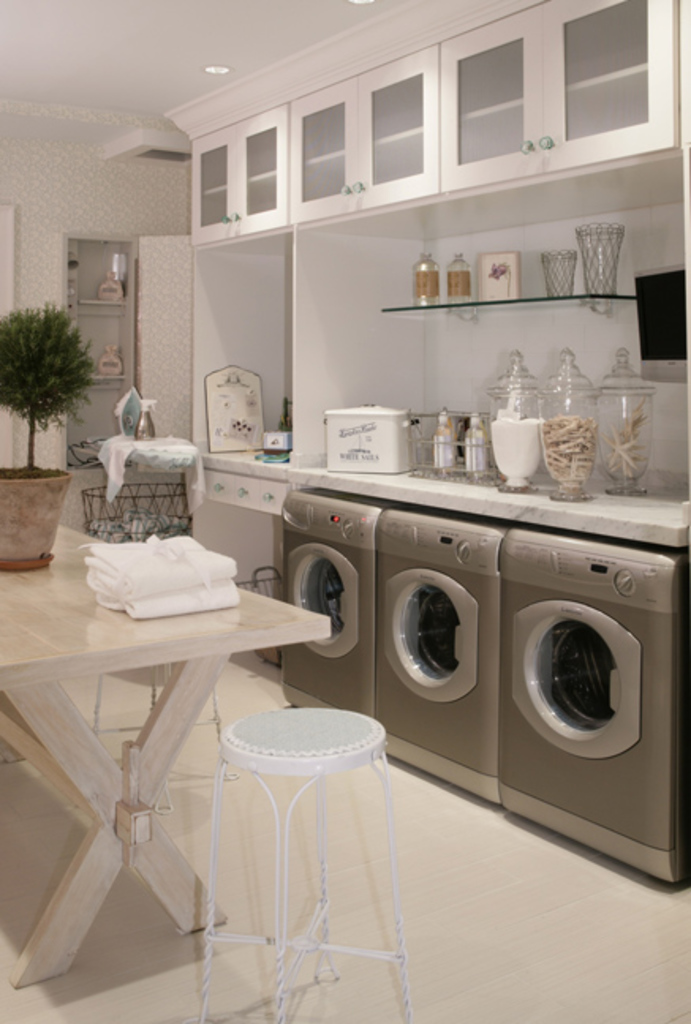cabinet door: (550, 17, 666, 148), (445, 53, 539, 174), (360, 87, 433, 189), (295, 112, 350, 203), (197, 145, 234, 230), (244, 131, 279, 218)
handle: (542, 134, 554, 158), (523, 137, 534, 162), (341, 179, 351, 201), (355, 176, 364, 199)
